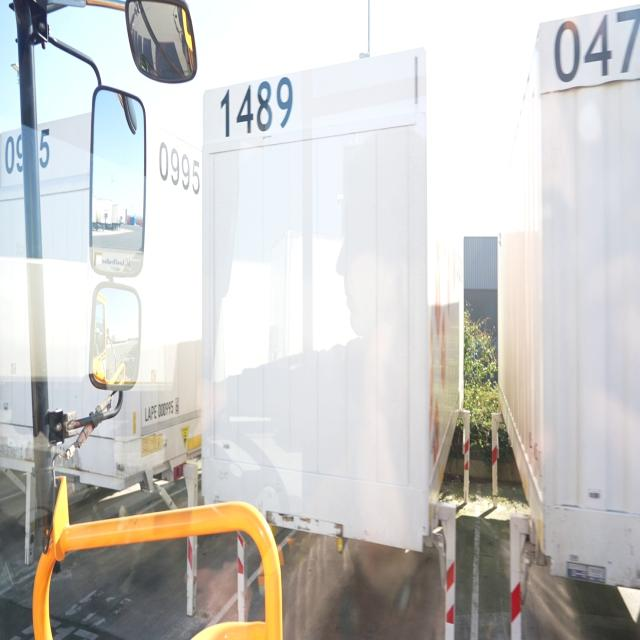Code: (218, 74, 294, 144), (156, 138, 204, 200)
